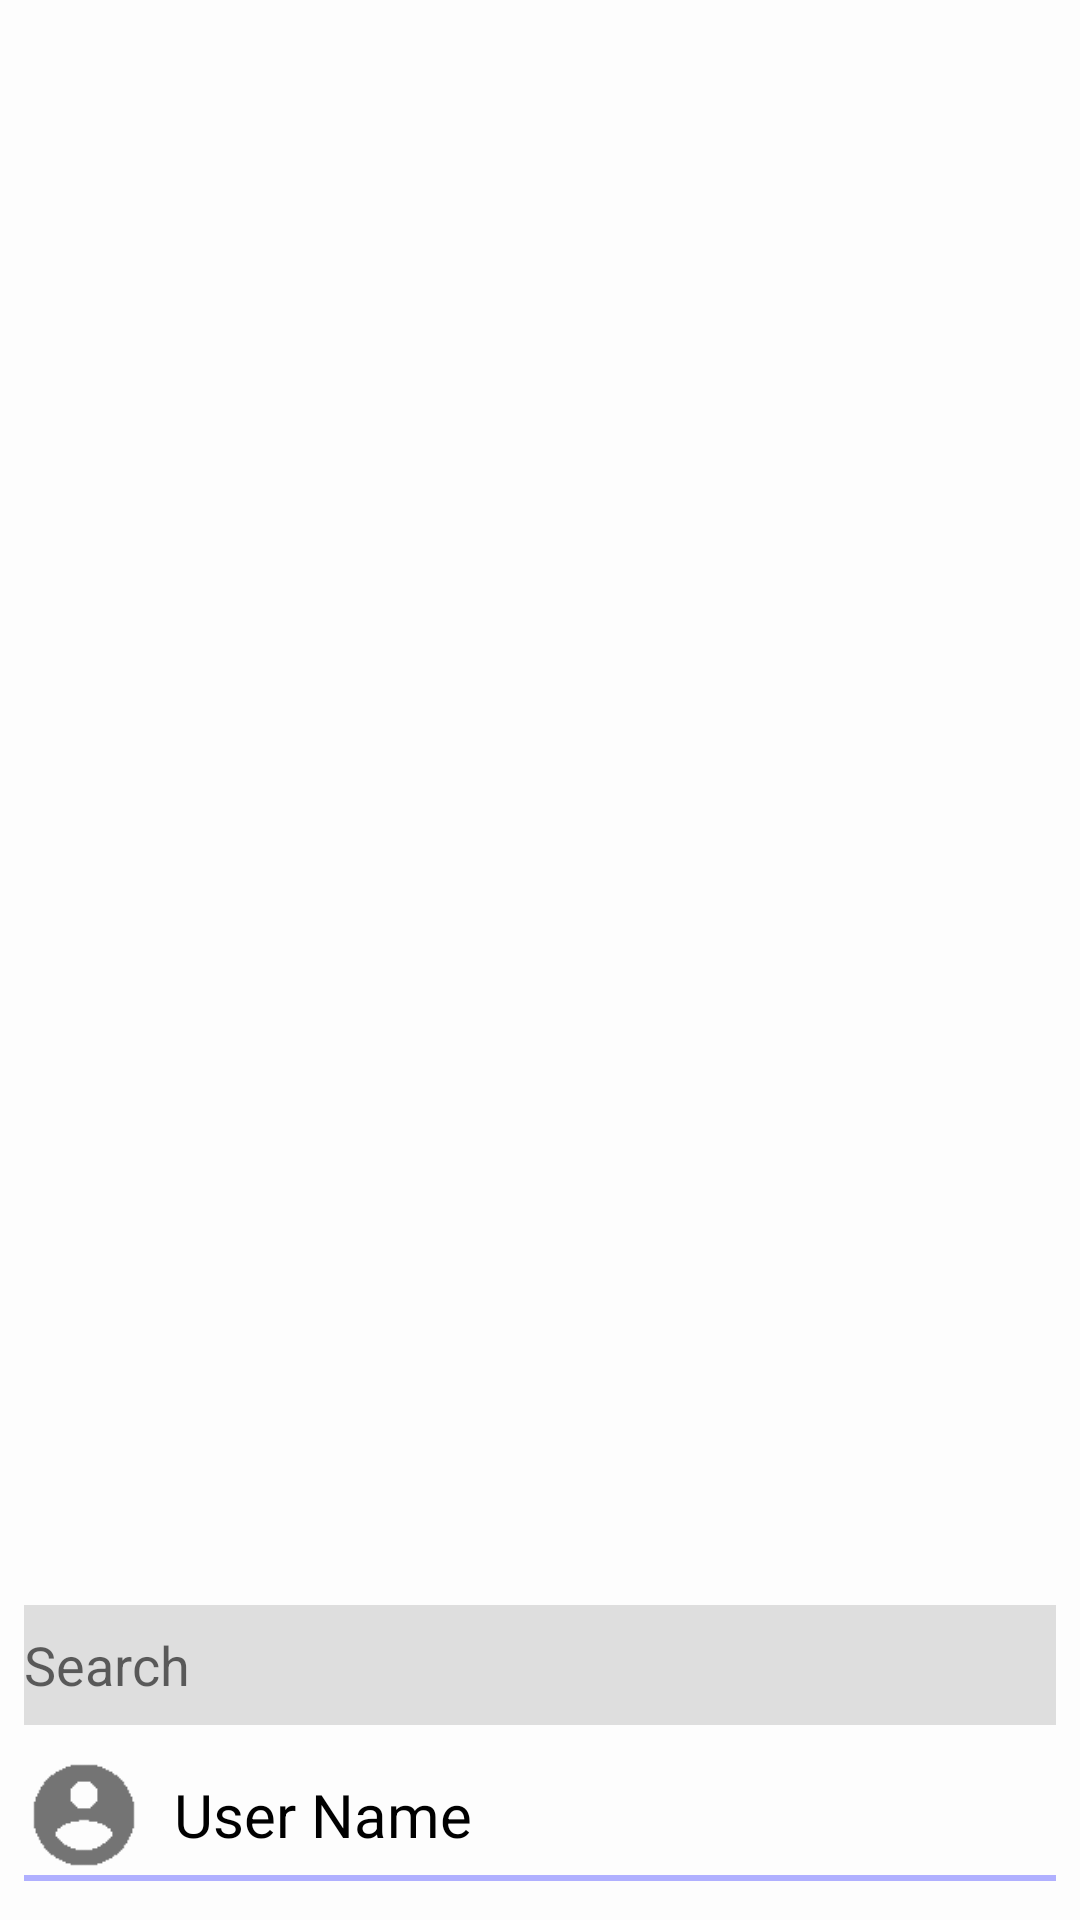

Where to tap for icons on this 1080×1920 app screen, as point (x, y):
account circle: point (84, 1815)
